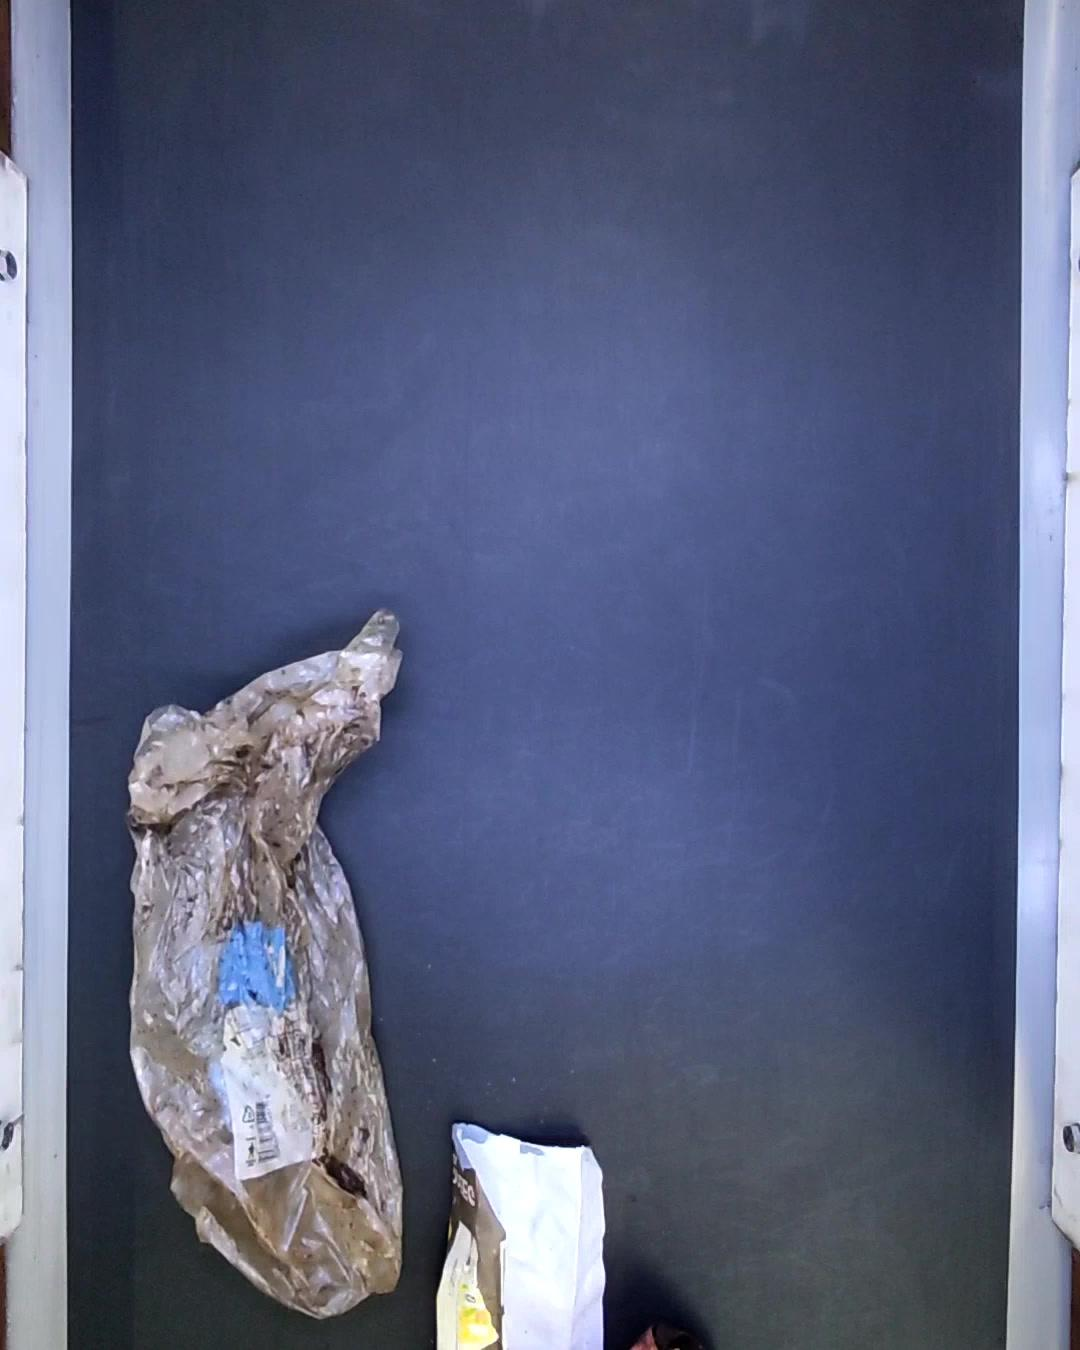Plastic folies of stukken daarvan 2.5- 50 cm: (128, 615, 414, 1319)
Voedselverpakkingen: (436, 1123, 616, 1350)
